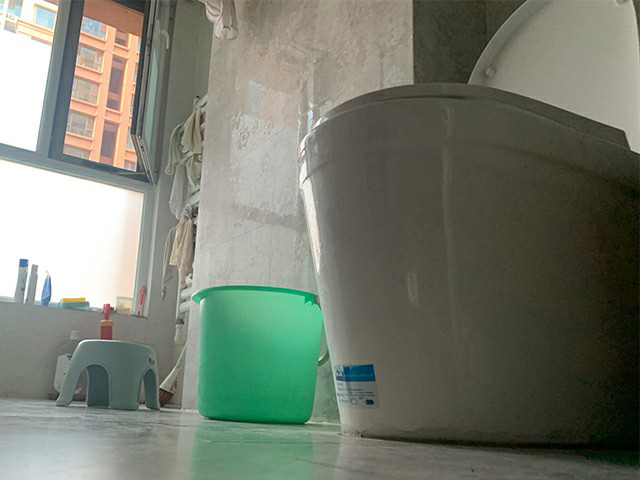closestool: (292, 1, 640, 448)
stool: (56, 339, 163, 413)
